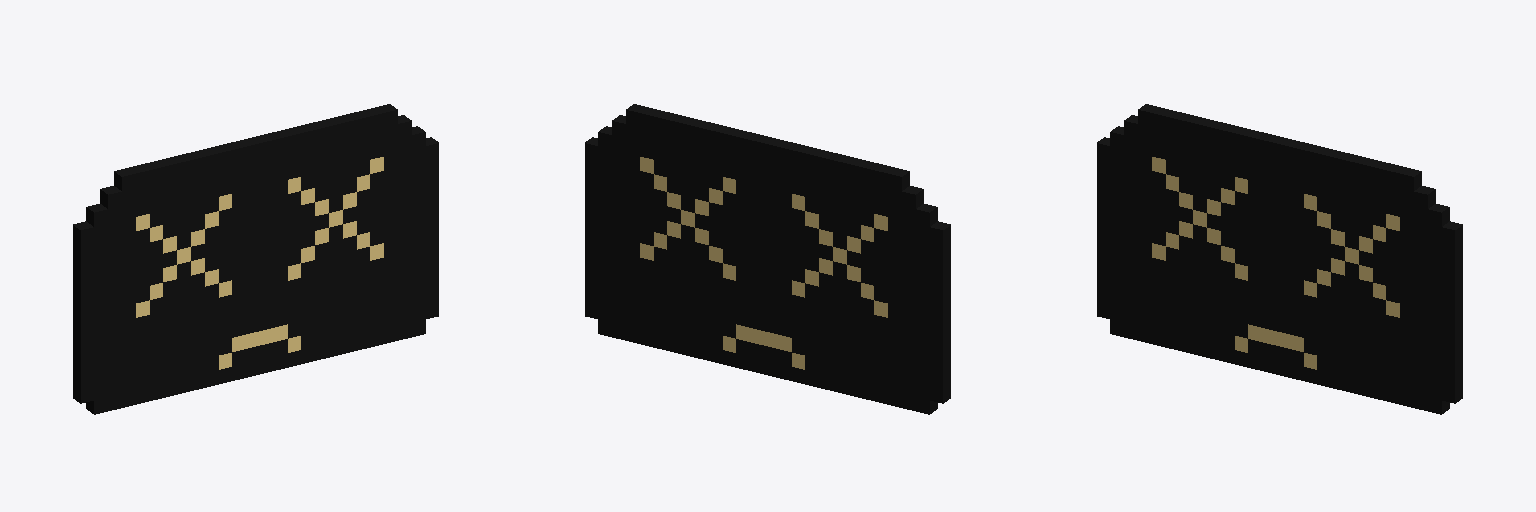
3 views of the same model, side by side, from view 1: azimuth 30°, elevation 25°; view 2: azimuth 150°, elevation 25°; view 3: azimuth 330°, elevation 25° (orthographic).
Visible parts, largest first — view 1: object 1; view 2: object 1; view 3: object 1.
Boxes of the visible parts, <box> form: object 1: <box>73,104,438,414</box>; object 1: <box>585,104,950,414</box>; object 1: <box>1097,104,1462,414</box>.
Bounding box in the file's own units: 2.6 × 1.6 × 0.1.
Materials: 1 (1 with a texture image).